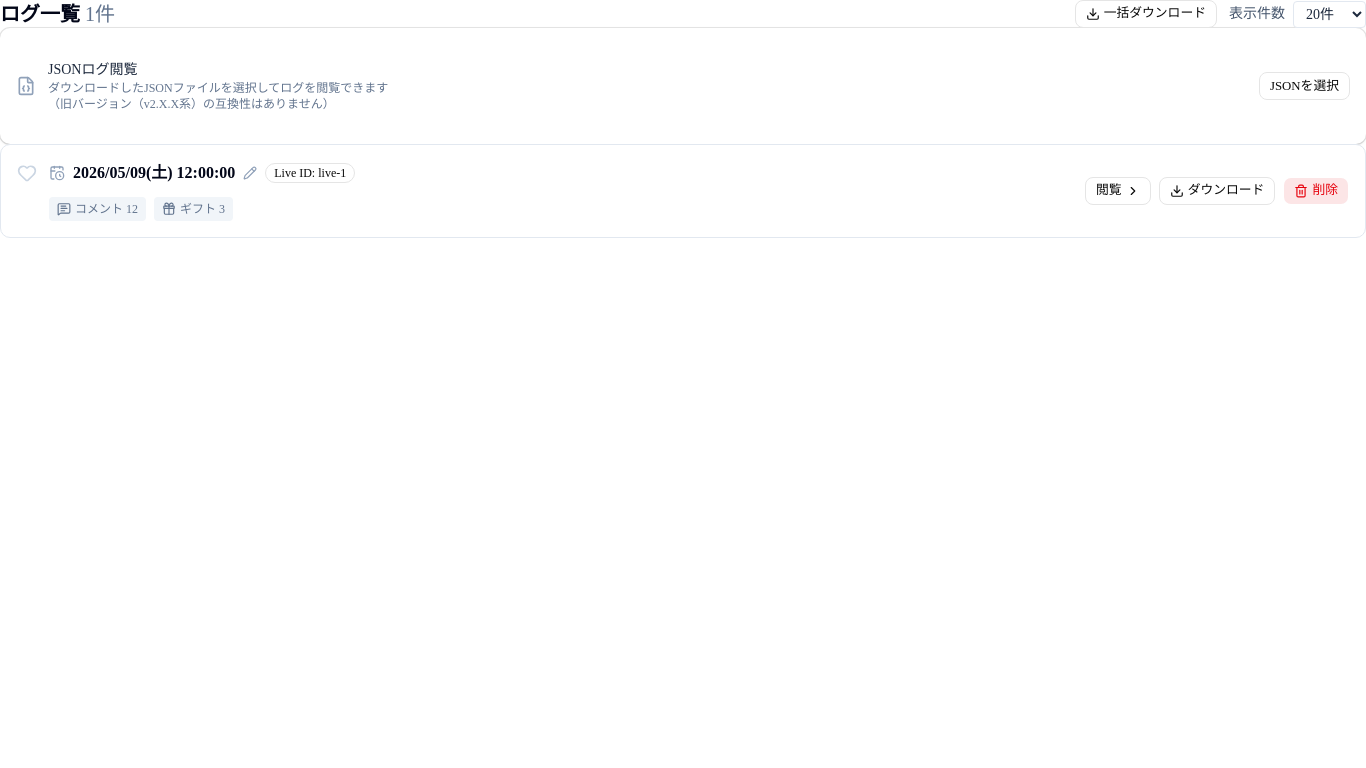
Test: LogListPage › shows the delete error and keeps the log when deletion fails
The width and height of the screenshot is (1366, 768).
What coordinates should you click on to do the following:
click the button "削除"
I would click on:
 (1316, 191)
Its box is top-left (1283, 177), bottom-right (1349, 205).
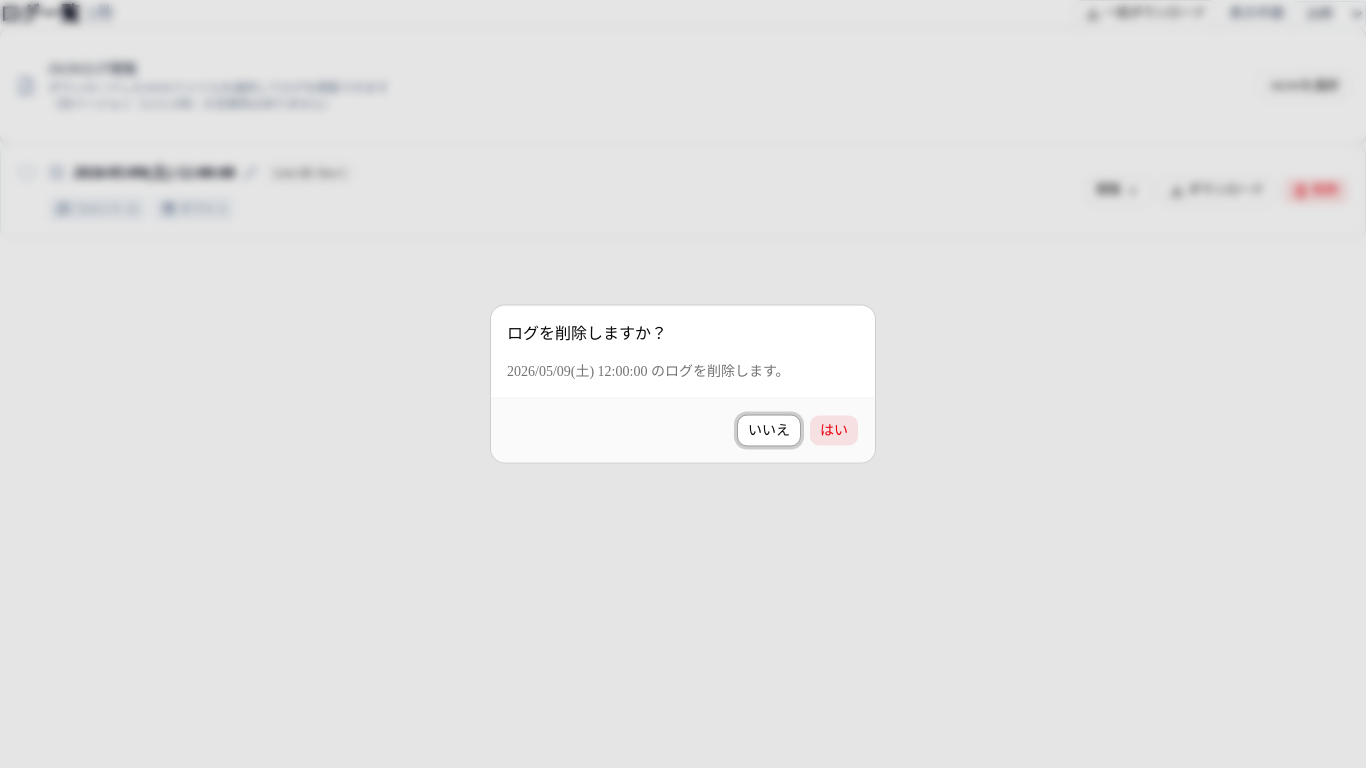
What coordinates should you click on to do the following:
click the button "はい"
I would click on:
 (834, 430)
Its box is top-left (809, 414), bottom-right (859, 446).
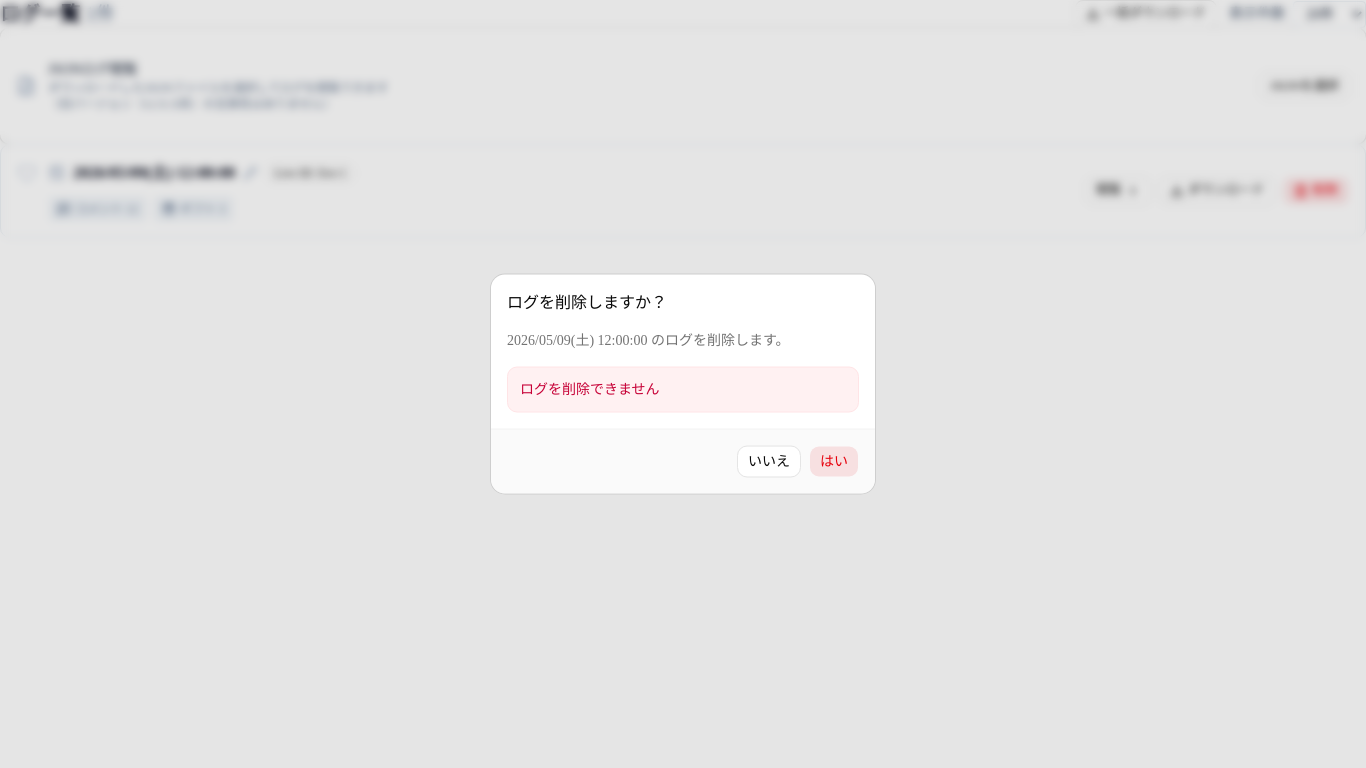
expect the text "2026/05/09(土) 12:00:00" is shown: met, box top-left (73, 161), bottom-right (235, 185)
expect the text "ログを削除できません" is shown: met, box top-left (507, 366), bottom-right (859, 412)
